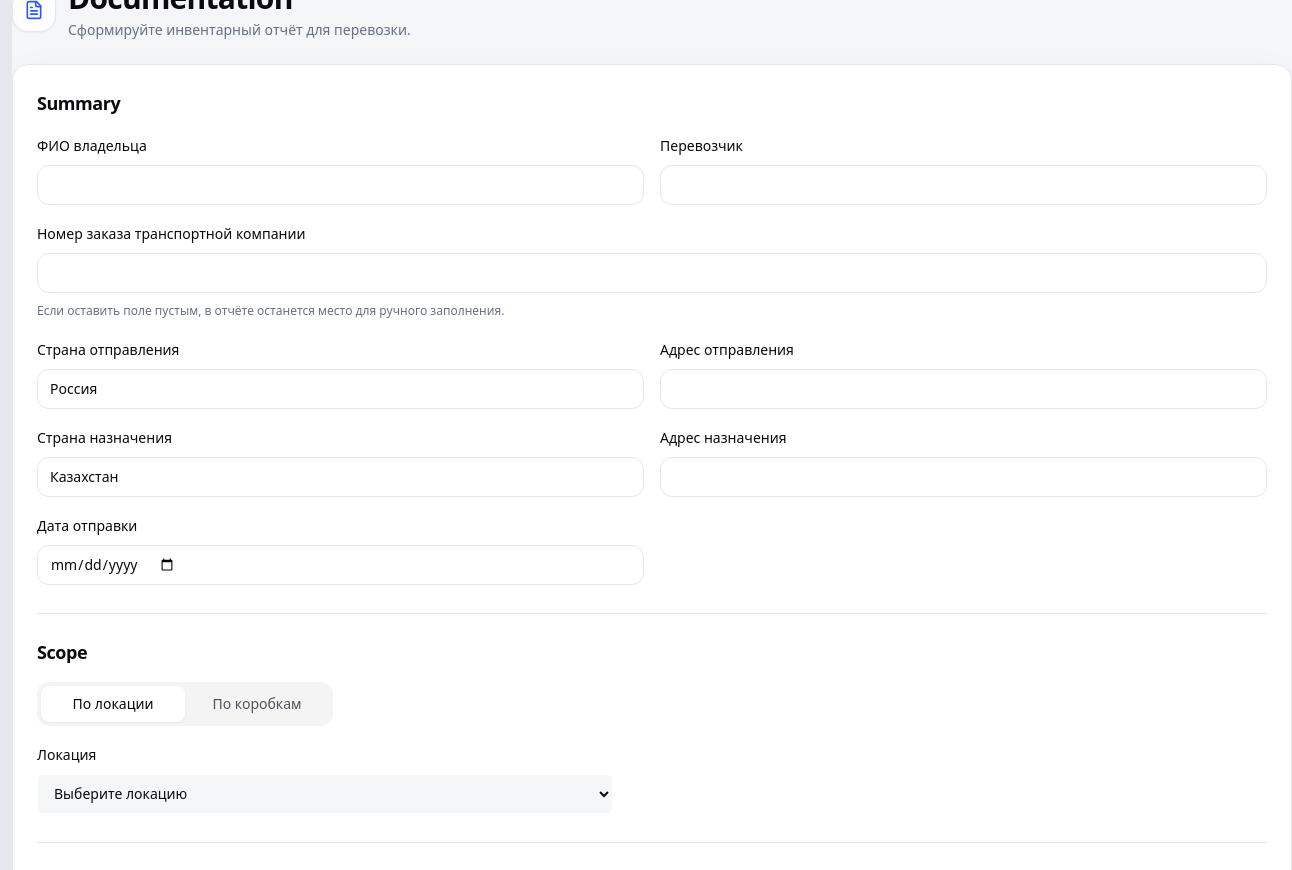
it: successful generation keeps summary defaults, clears scope, and refreshes history
Type "Иван Иванов" into the field labelled "ФИО владельца".
click(340, 185); type("Иван Иванов")  # box [37,165,644,205]
Type "ТК" into the field labelled "Перевозчик".
click(964, 185); type("ТК")  # box [660,165,1267,205]
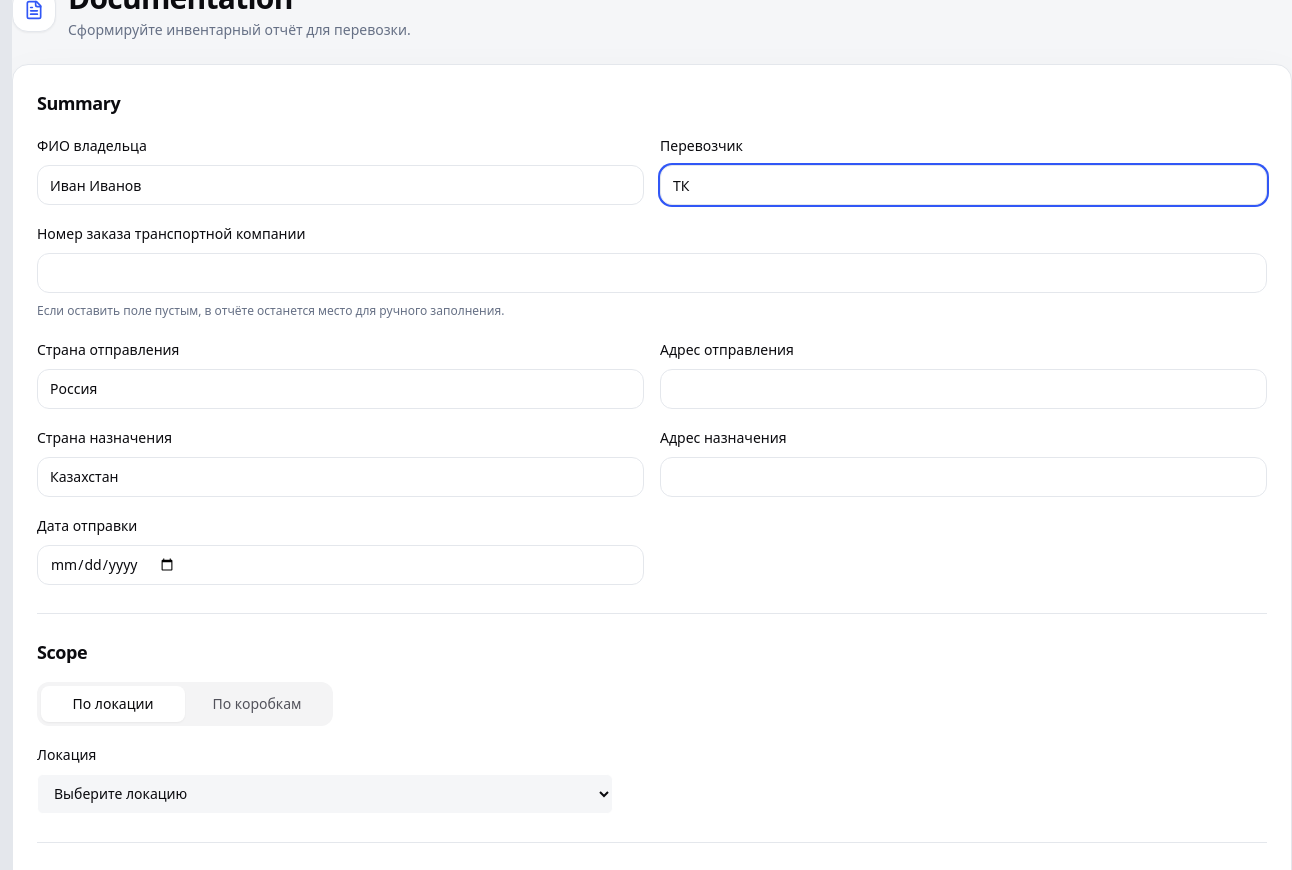
Type "Москва" into the field labelled "Адрес отправления".
click(964, 388); type("Москва")  # box [660,368,1267,408]
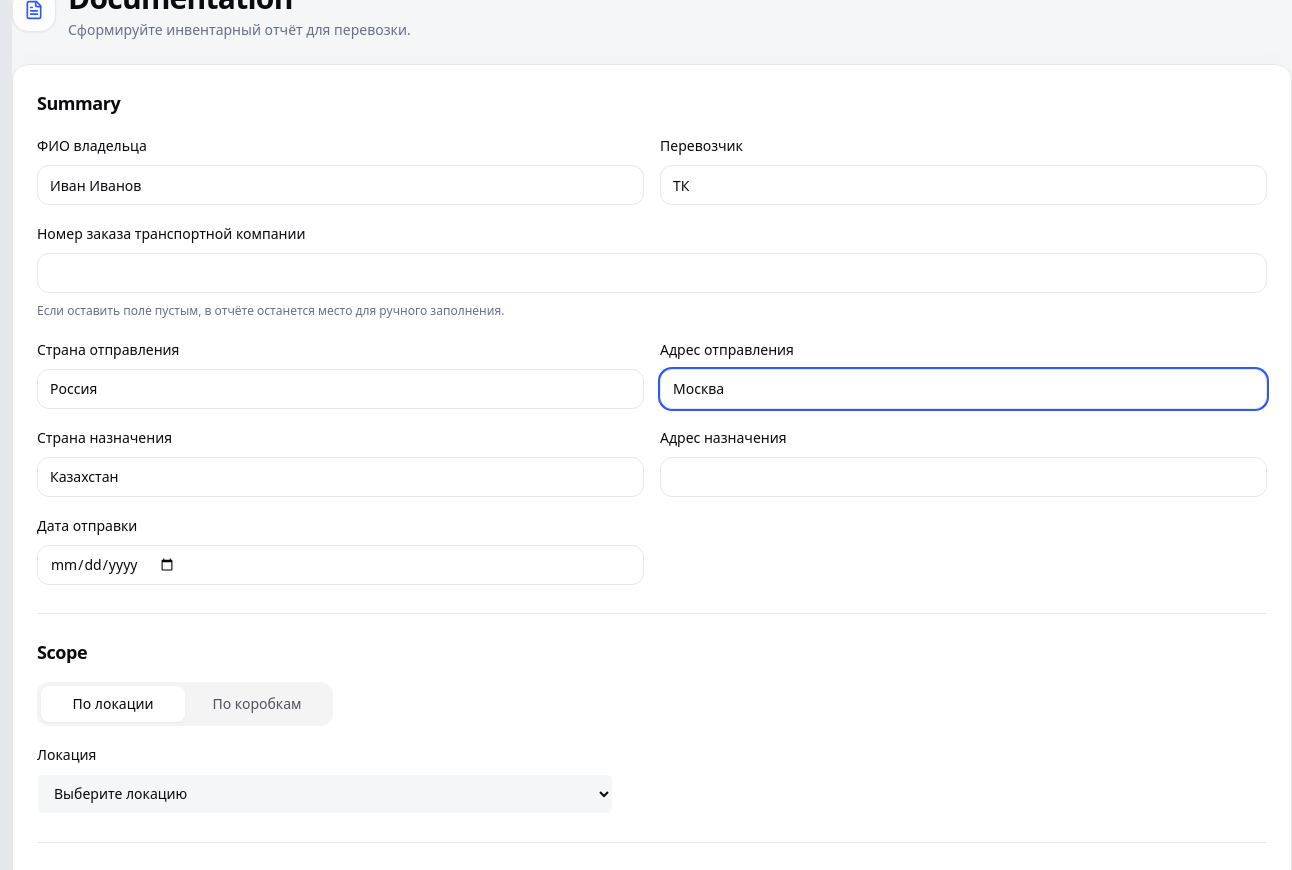
Type "Алматы" into the field labelled "Адрес назначения".
click(964, 476); type("Алматы")  # box [660,456,1267,496]
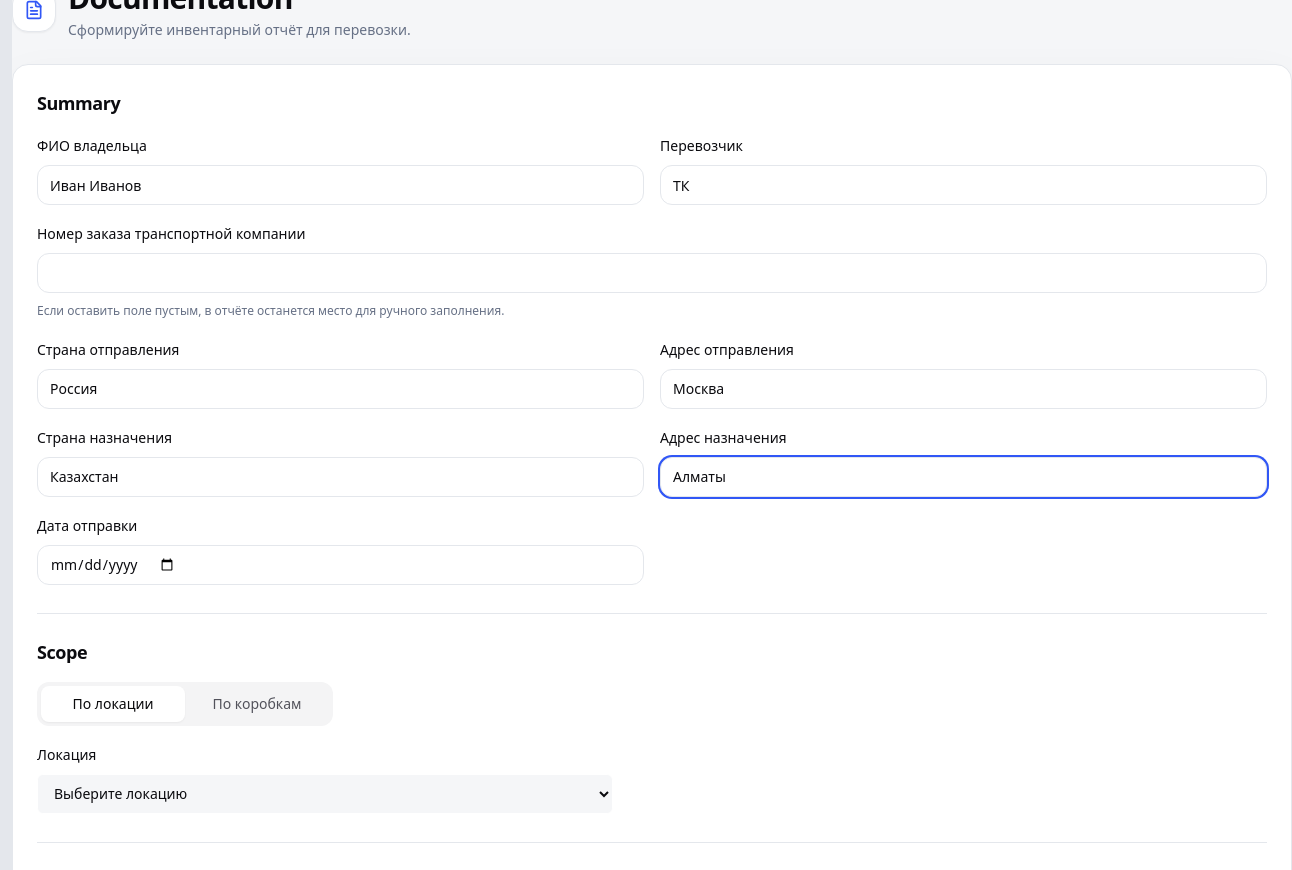
Type "2026-08-01" into the date field labelled "Дата отправки".
click(340, 564); type("2026-08-01")  # box [37,544,644,584]
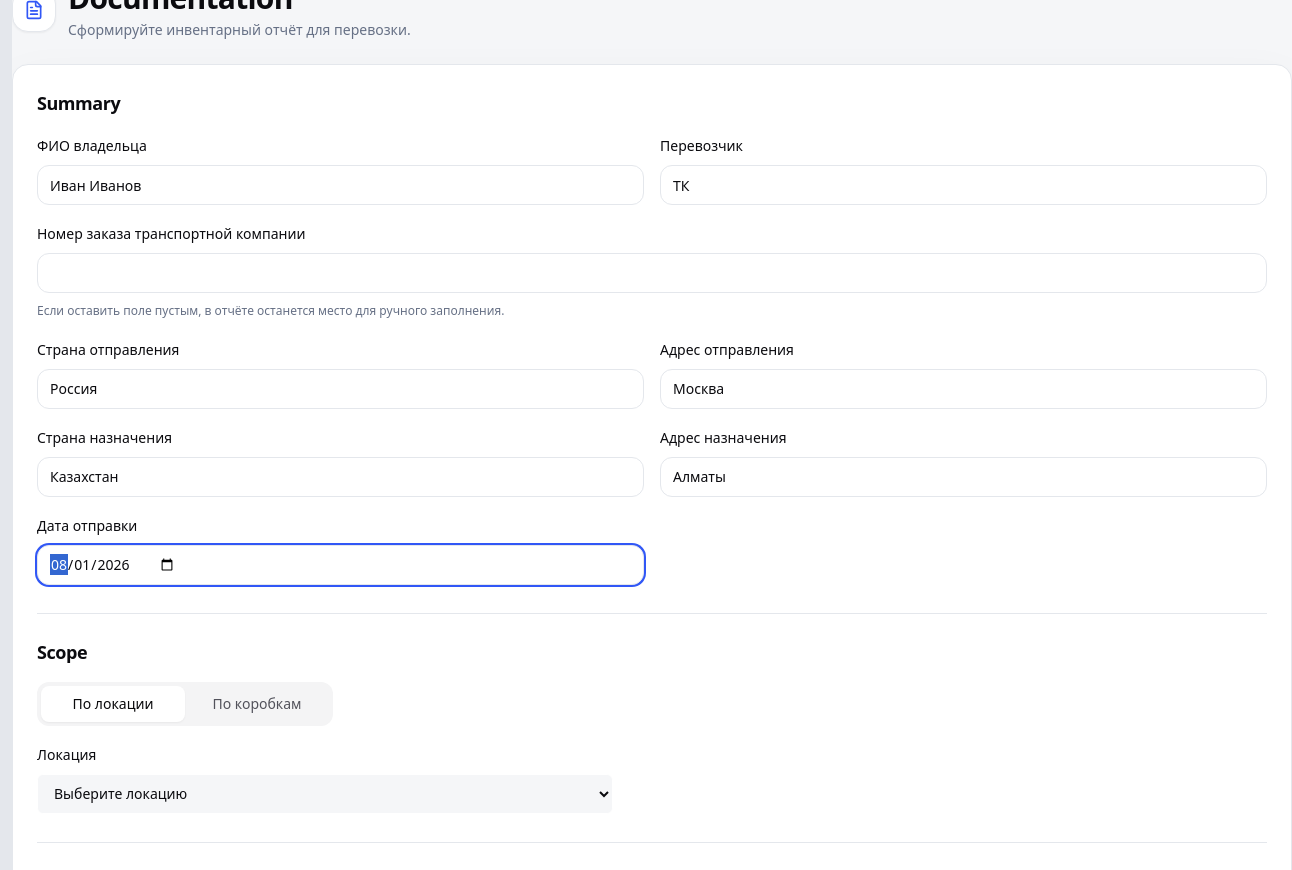
Select "Россия / Москва / Кладовая" in the dropdown labelled "Локация" at (325, 794), box [37,774,613,814]
(page scrolled)
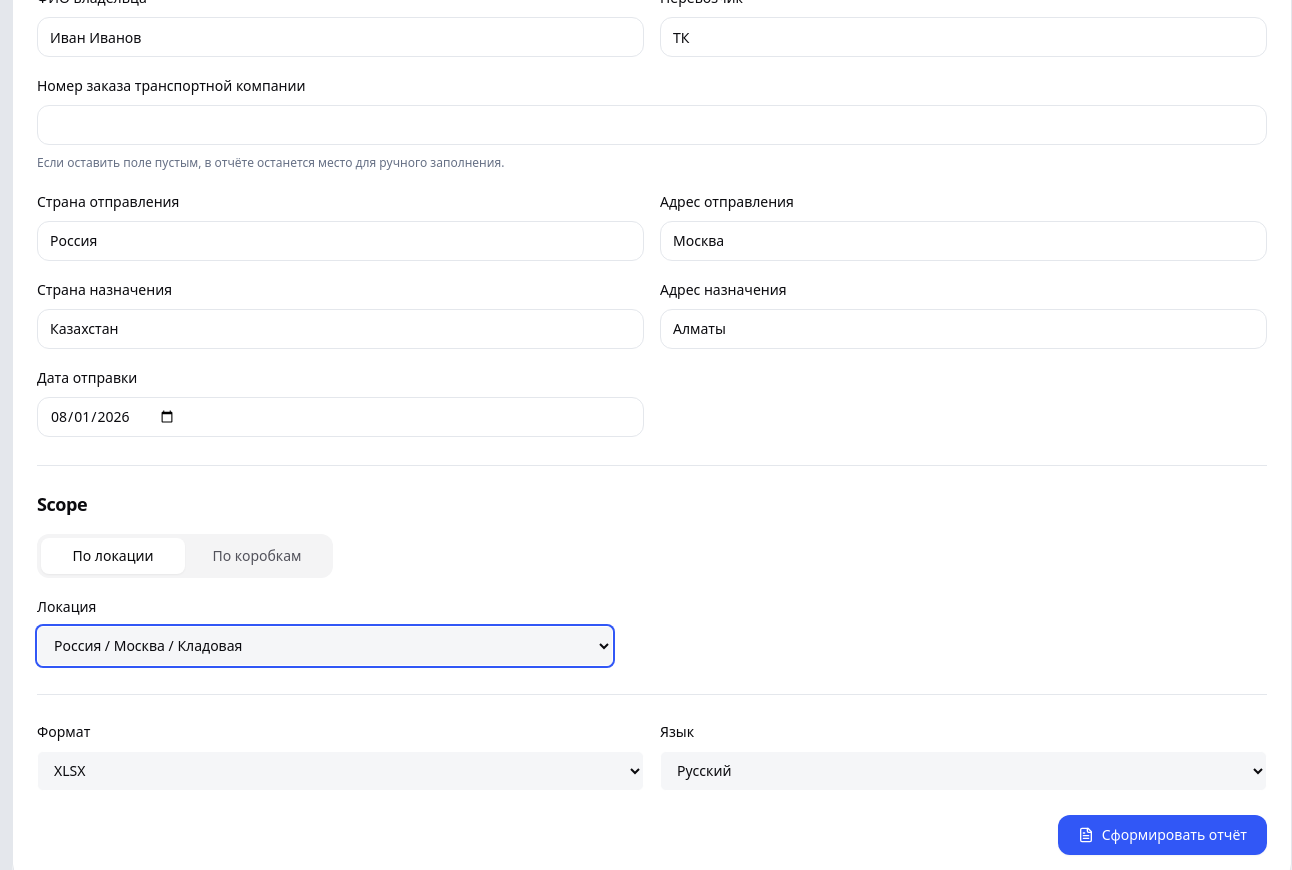
Click the button "Сформировать отчёт".
click(1162, 834)  # box [1058,814,1267,854]
(page scrolled)
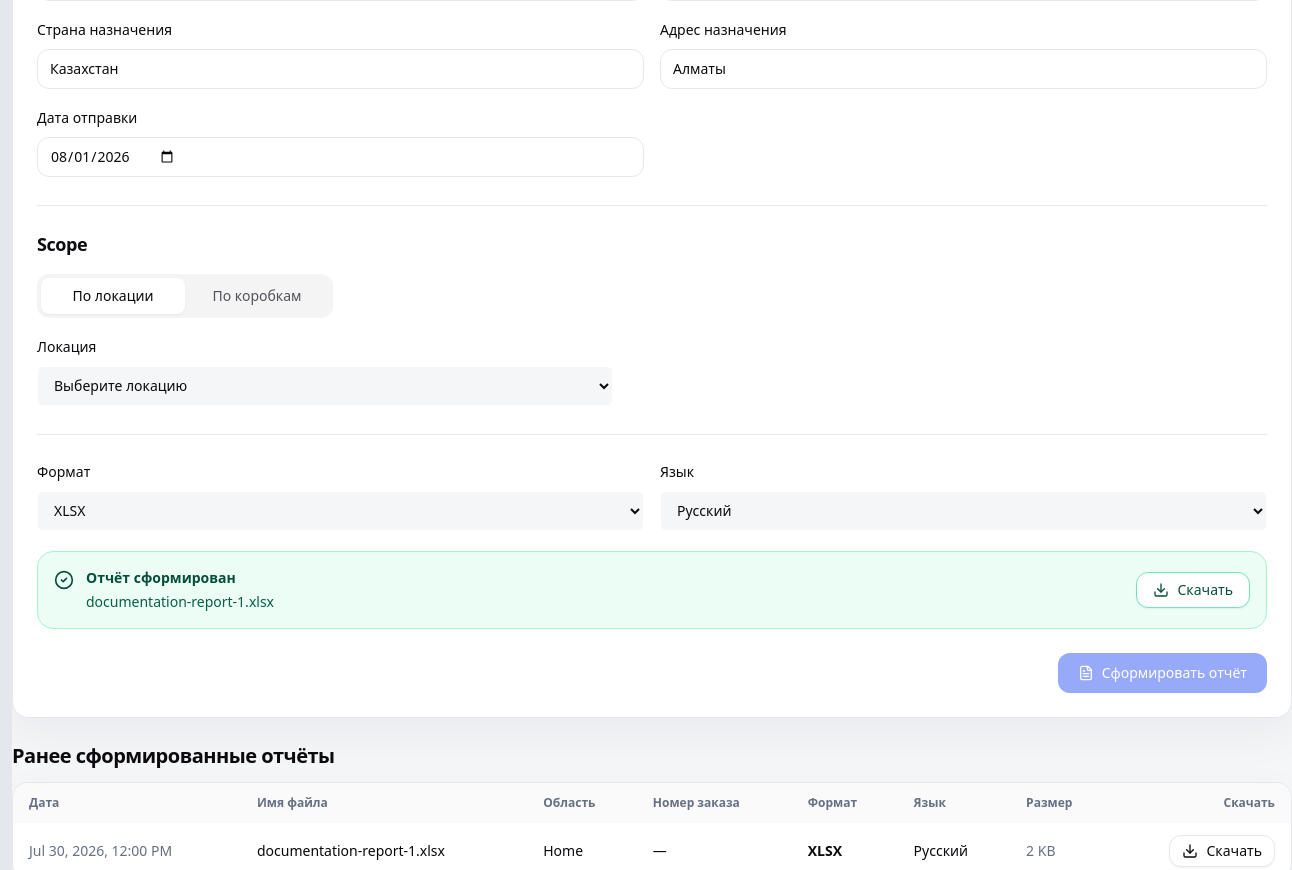
Now the text "Отчёт сформирован" is shown, box [86,568,236,586]
Now the heading "Ранее сформированные отчёты" is shown, box [12,742,334,770]
Now the button "Сформировать отчёт" is disabled, box [1058,652,1267,692]
